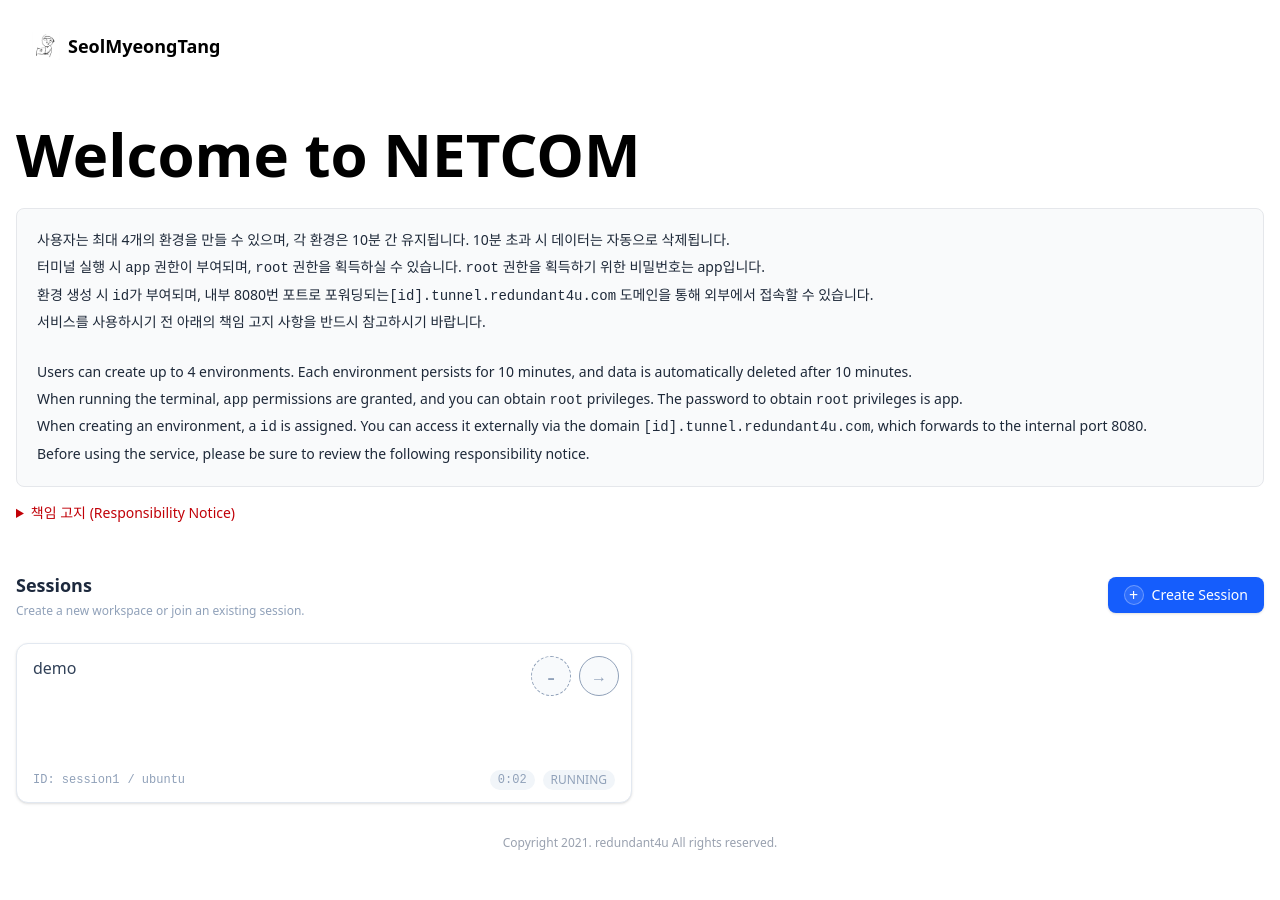
Test: resets canceled modal values and renders creating, running and expired session states
The width and height of the screenshot is (1280, 900).
Expected: the text "Running" is shown, [543,770,615,790]
Click the text "Create Session": (1200, 595) [1152,585,1248,605]
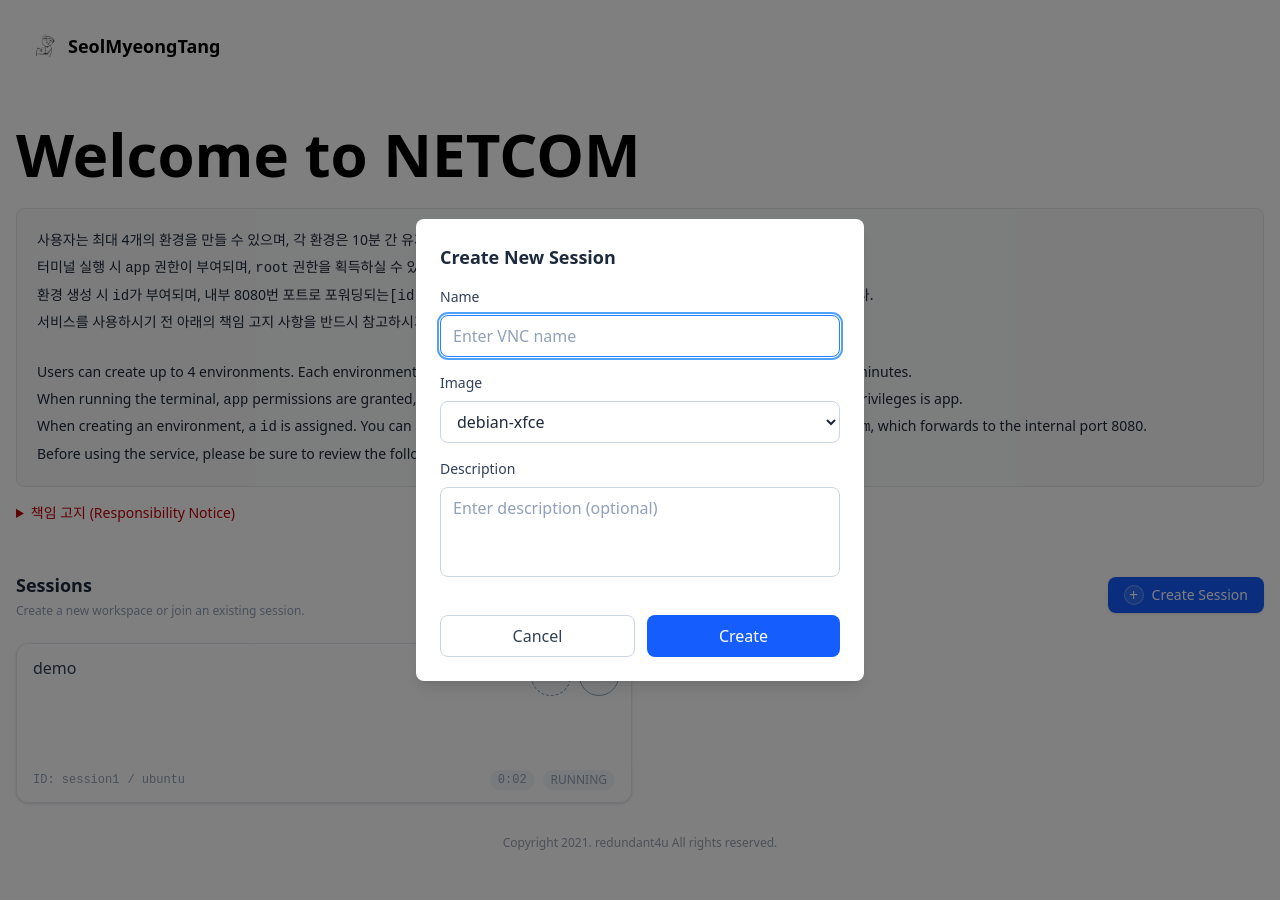
In the field labelled "Name": (640, 336) [440,315,840,357], type "discard"
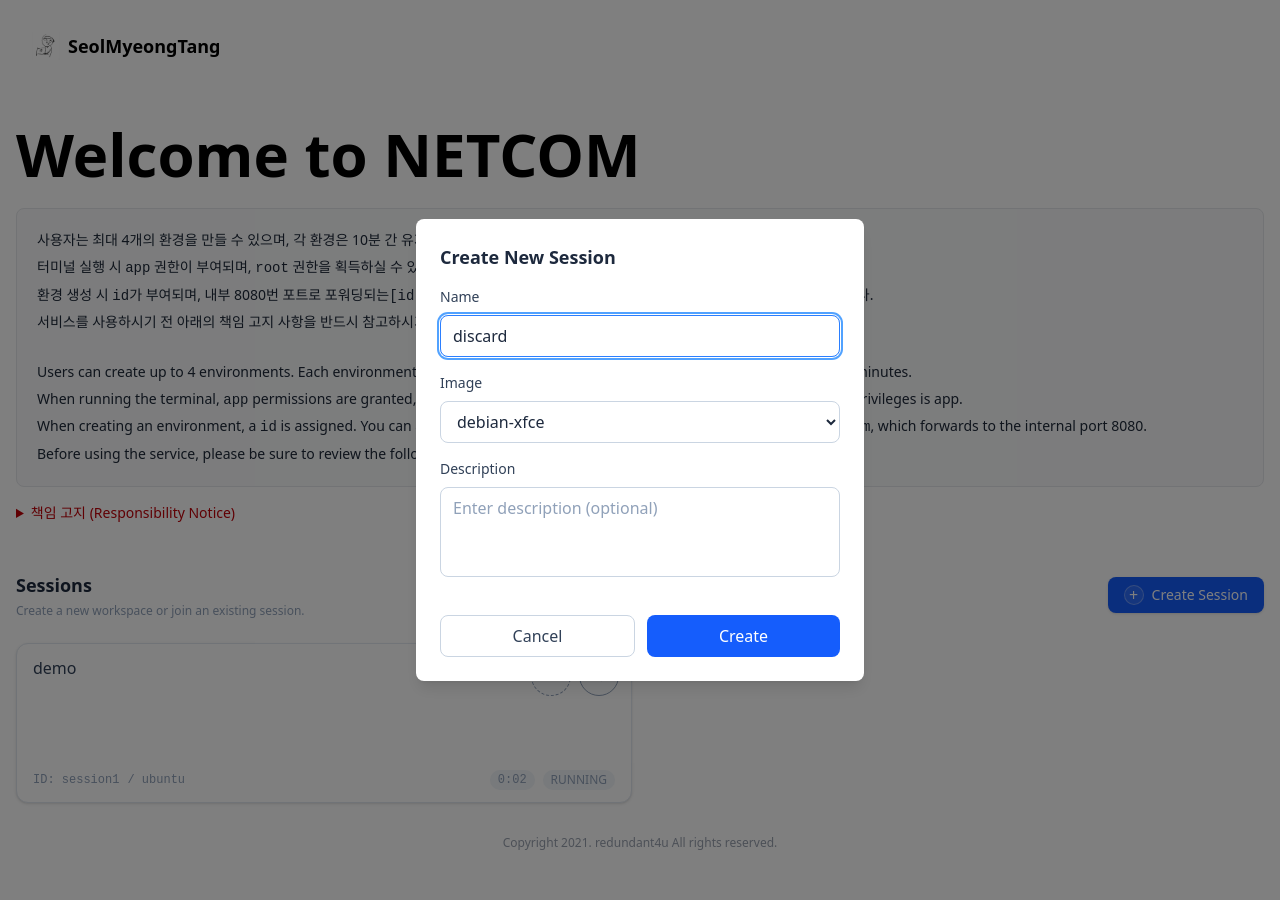
Click the button "Cancel": (538, 636) [440,615,635,657]
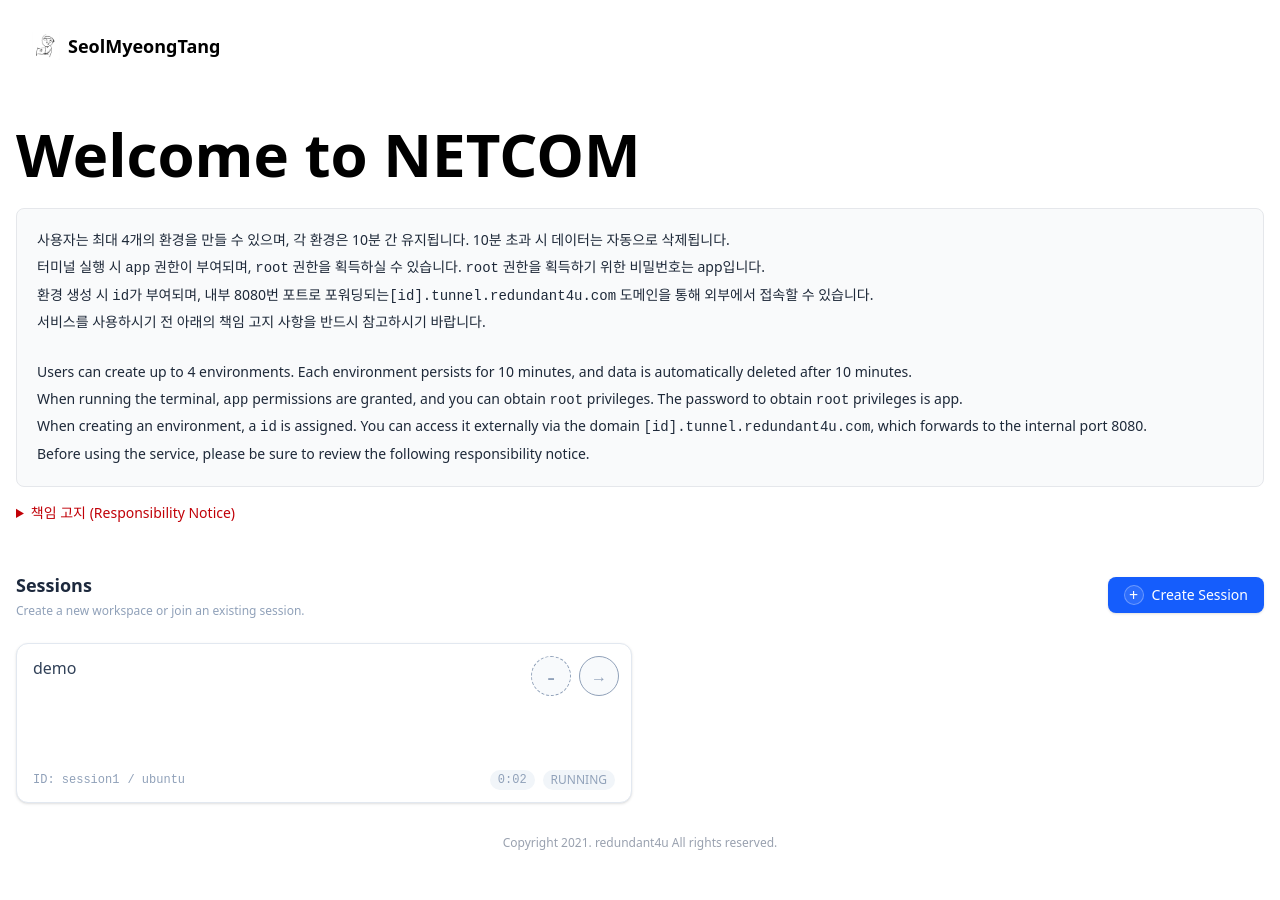
Click the text "Create Session": (1200, 595) [1152,585,1248,605]
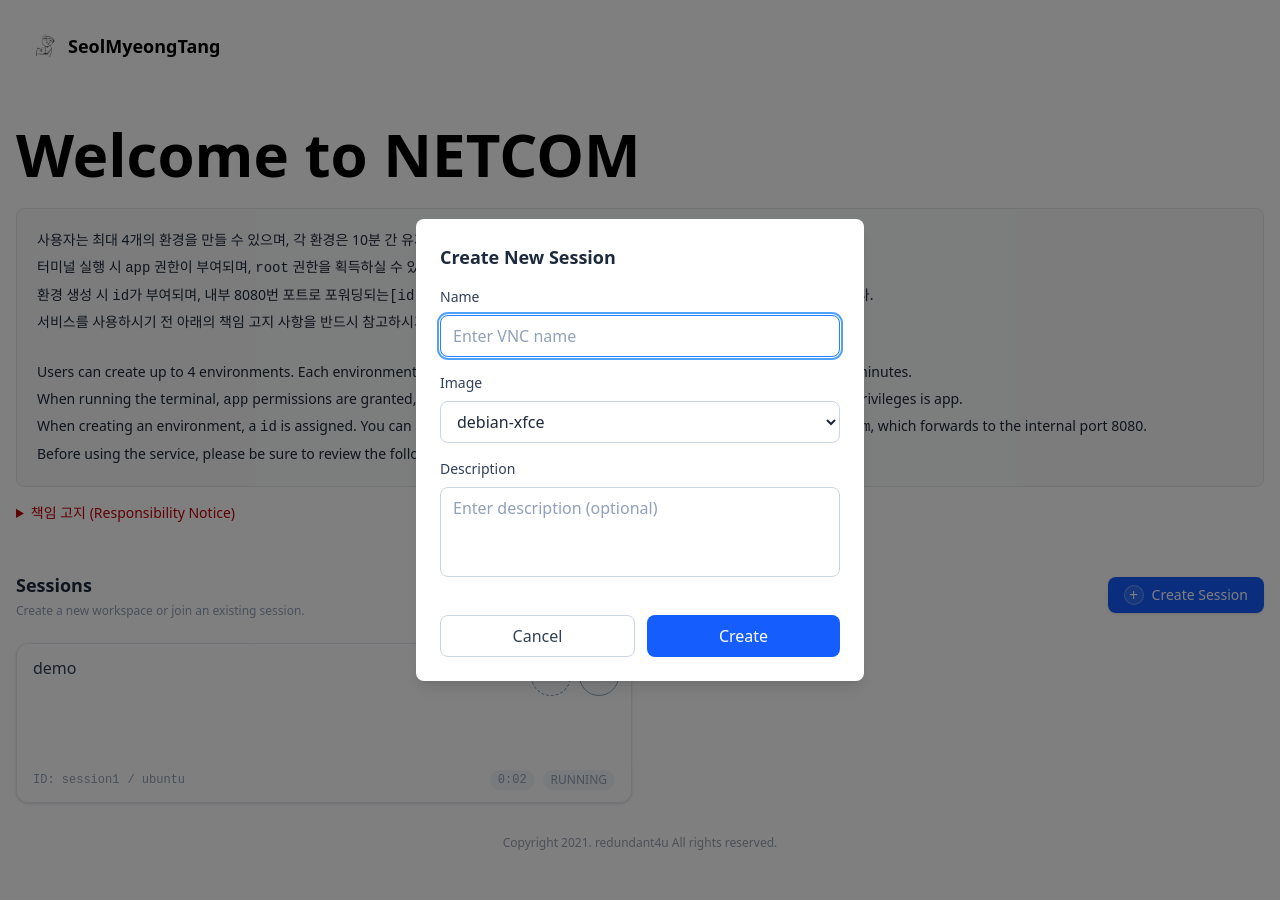
Now the field labelled "Name" is empty
In the field labelled "Name": (640, 336) [440,315,840,357], type "new"
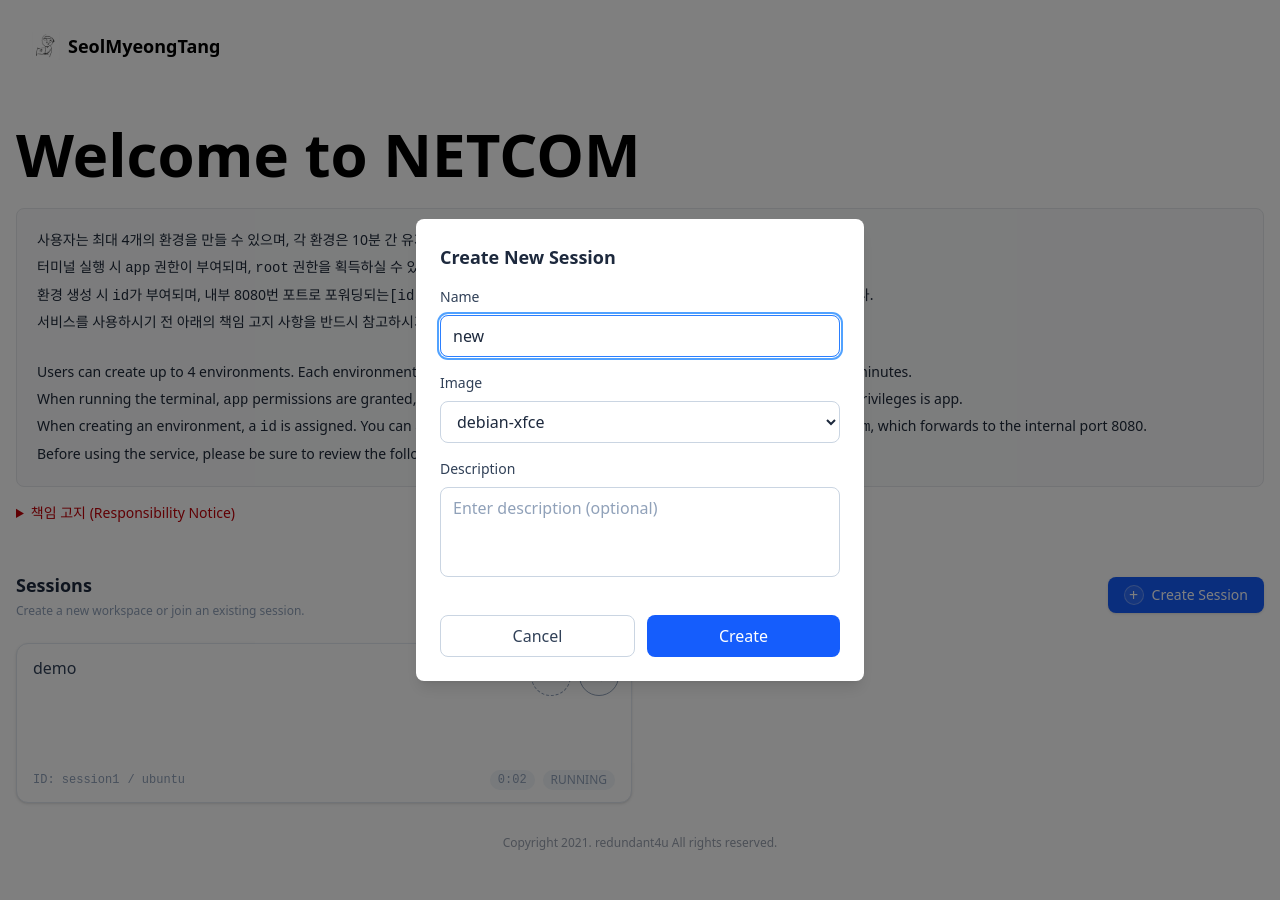
Click the button "Create": (744, 636) [647,615,840,657]
Wait 2000 ms
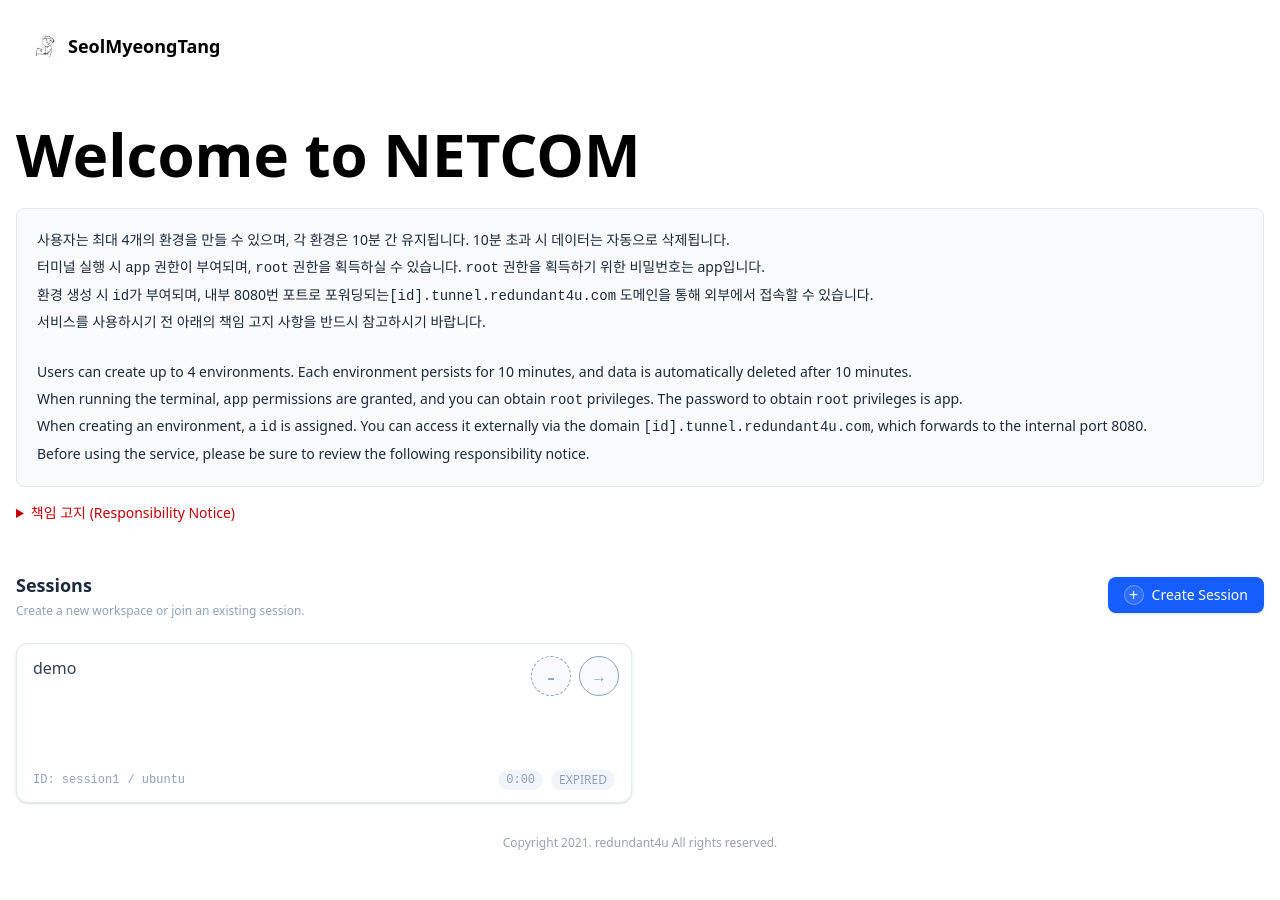
Now the text "Expired" is shown, box [551,770,615,790]
